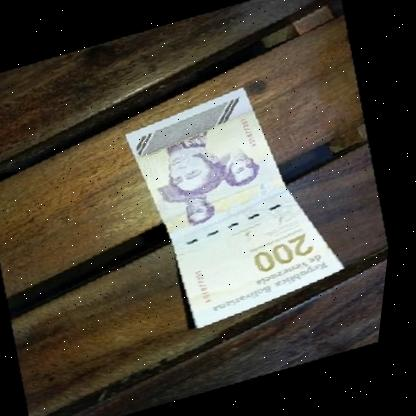two_hundred-front-vef: (105, 72, 372, 338)
